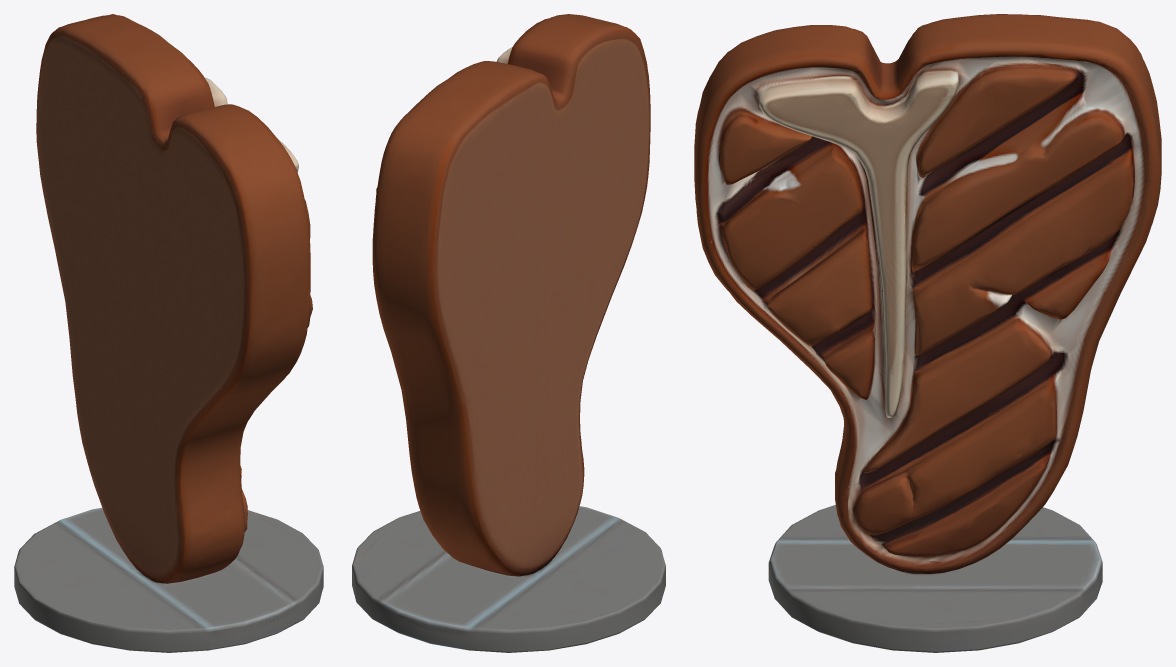
The model's file is tbone_steak.glb.
3 views of the same model, side by side, from view 1: azimuth 30°, elevation 25°; view 2: azimuth 150°, elevation 25°; view 3: azimuth 270°, elevation 25° (orthographic). The views are drawn at different scales.
Visible parts, largest first — view 1: tripo_node_a7a6876b-a8df-4b60-bb41-e7c2cf626553; view 2: tripo_node_a7a6876b-a8df-4b60-bb41-e7c2cf626553; view 3: tripo_node_a7a6876b-a8df-4b60-bb41-e7c2cf626553.
Part boxes in pixels (bbox=[...]): tripo_node_a7a6876b-a8df-4b60-bb41-e7c2cf626553: bbox=[14, 14, 323, 652]; tripo_node_a7a6876b-a8df-4b60-bb41-e7c2cf626553: bbox=[352, 14, 665, 652]; tripo_node_a7a6876b-a8df-4b60-bb41-e7c2cf626553: bbox=[694, 14, 1161, 652].
Bounding box in the file's own units: 0.541 × 0.998 × 0.7597.
Materials: 1 (1 with a texture image).
